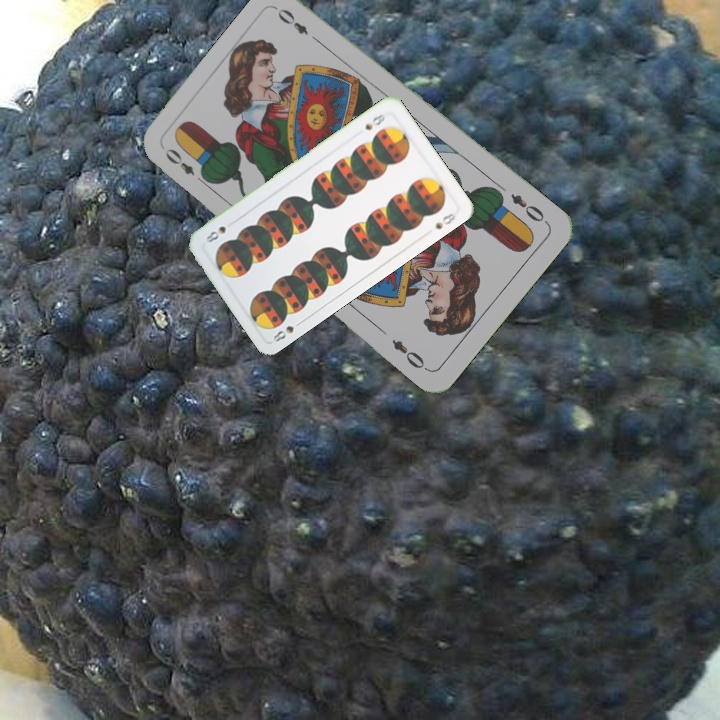EO: (161, 144, 210, 188), (506, 189, 551, 227)
S8: (269, 316, 305, 345), (360, 110, 388, 133)
